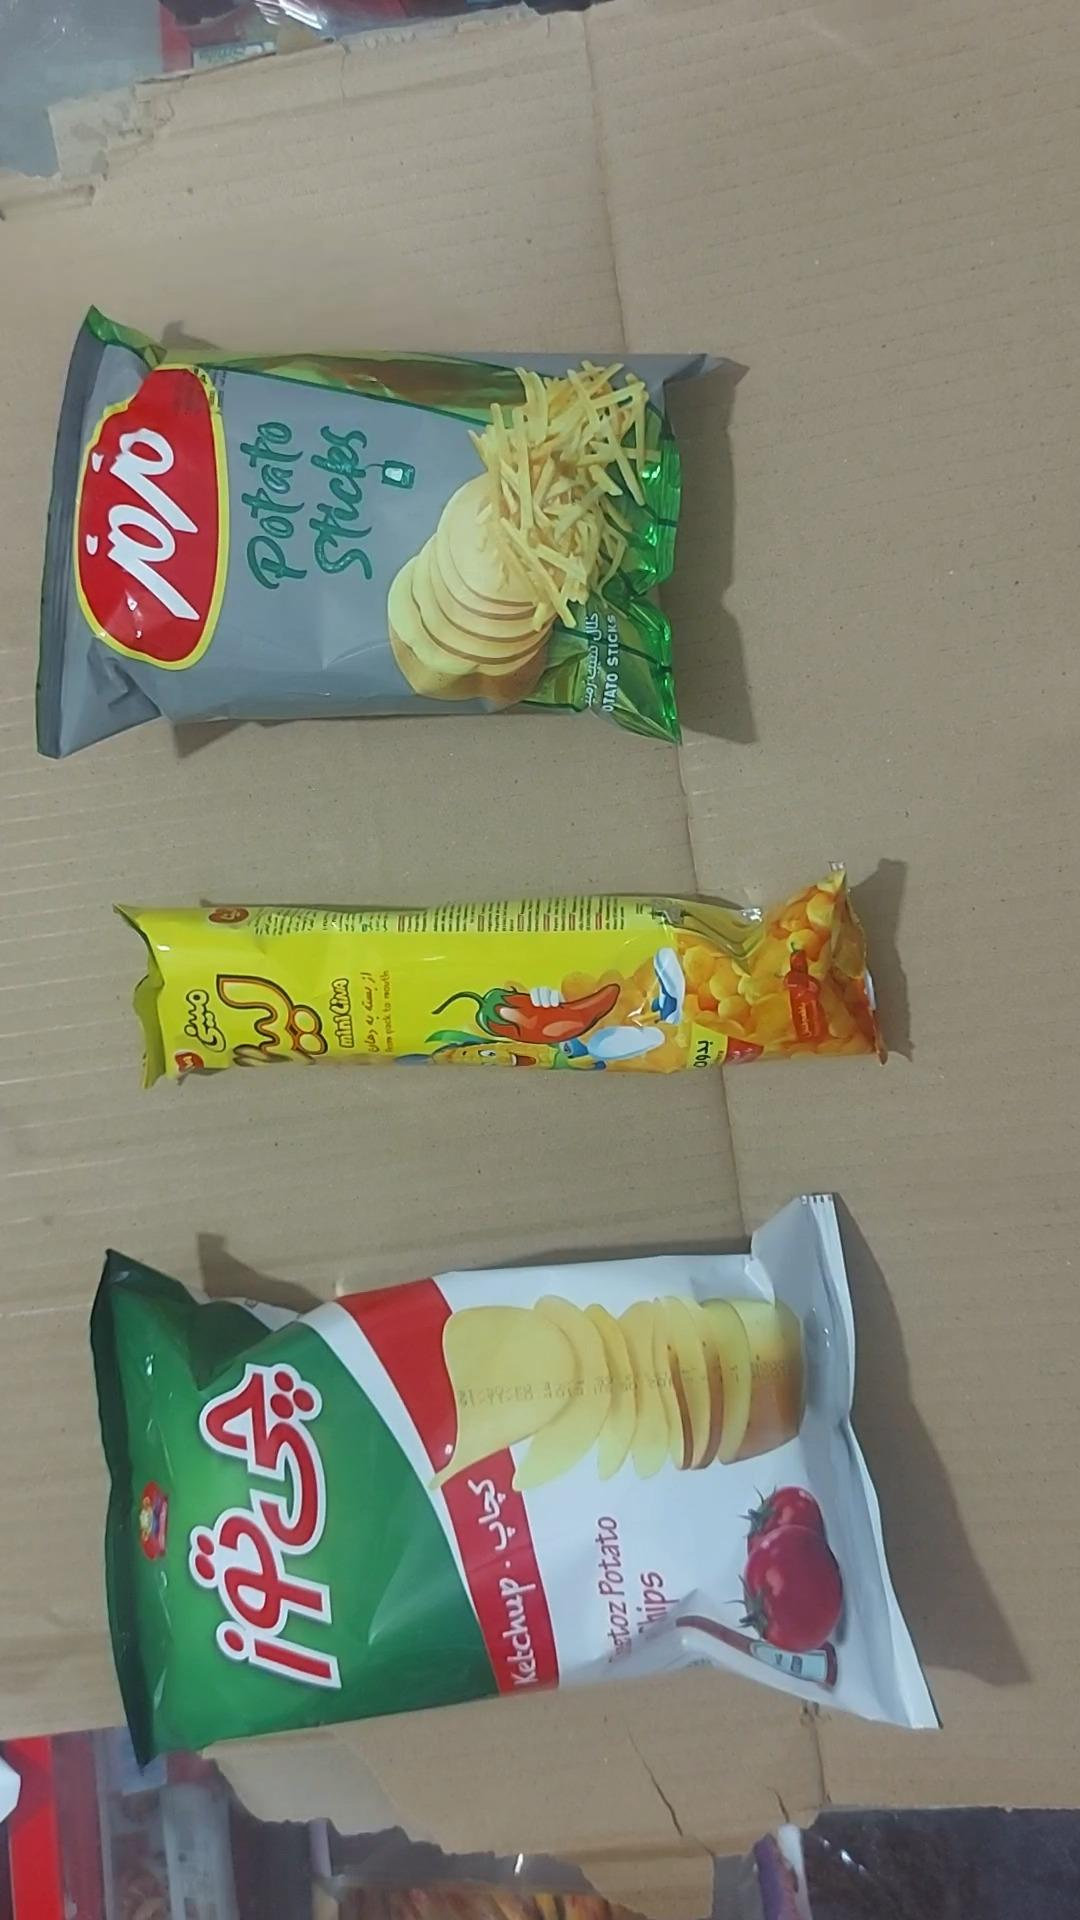Cheetoz ketchup chips: (91, 1196, 938, 1762)
Maz Maz potato sticks: (36, 309, 708, 757)
Mini Lina: (117, 870, 885, 1087)
